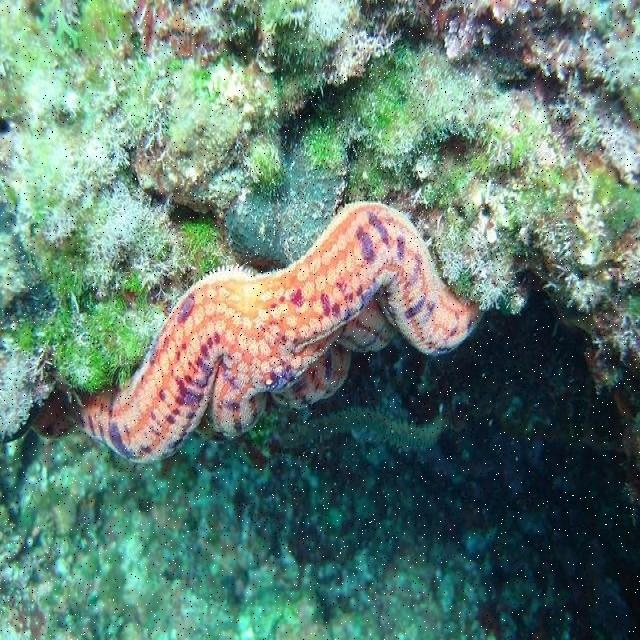reefs: (28, 200, 486, 465)
